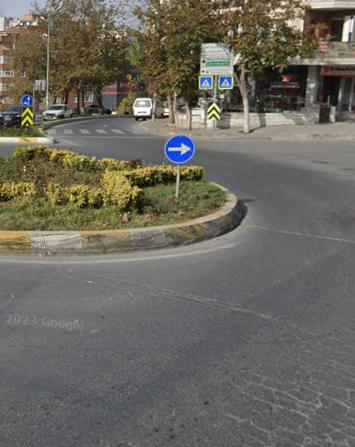turnright: (164, 133, 197, 164)
